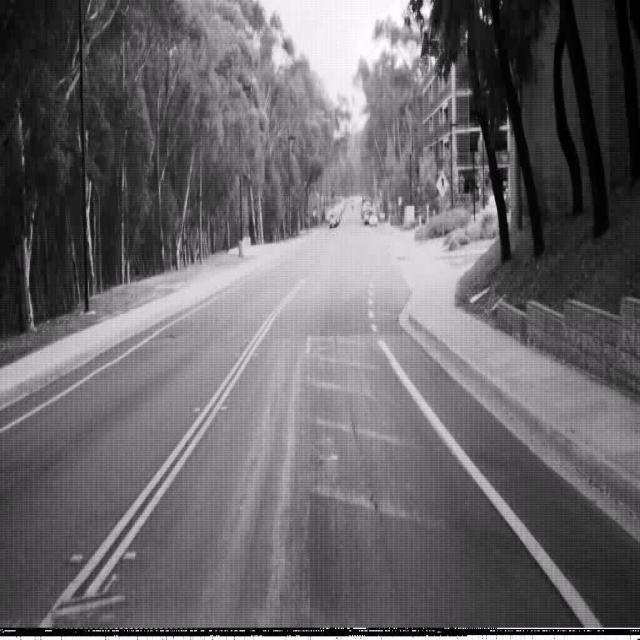pedestrianCrossing: (435, 169, 449, 199)
